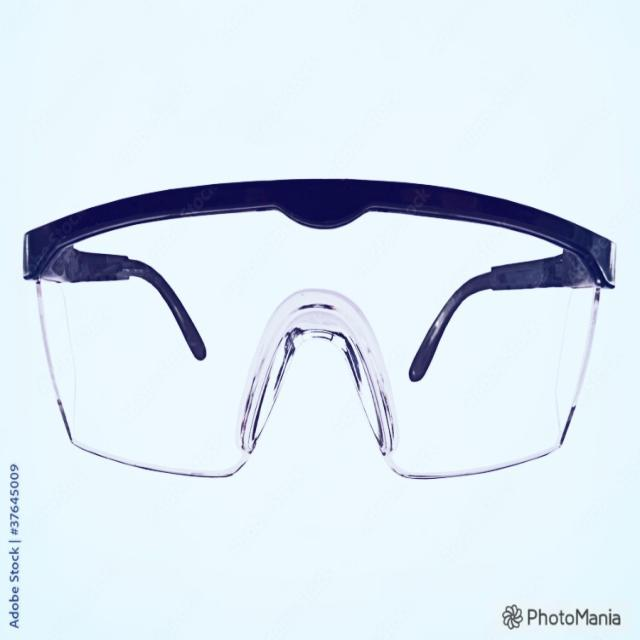Goggles: (23, 173, 624, 500)
